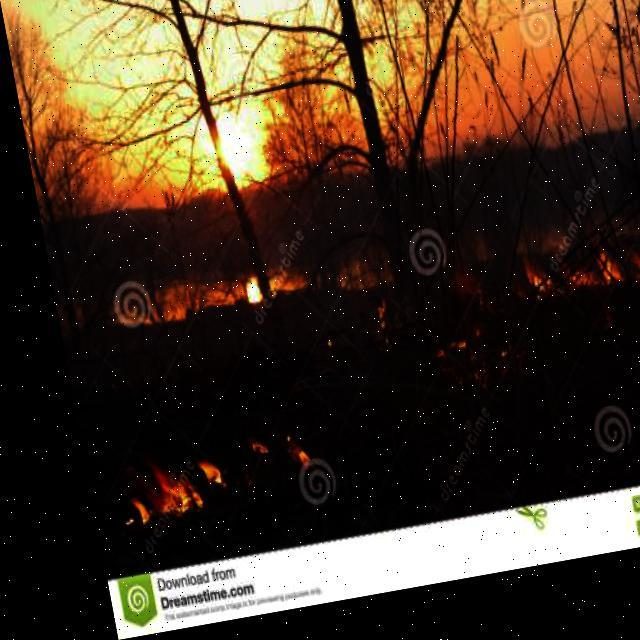Fire: (507, 246, 639, 322), (100, 436, 208, 518), (416, 328, 506, 403), (266, 436, 298, 480), (228, 436, 254, 466)
